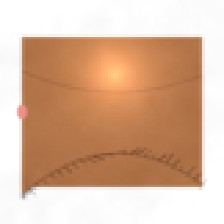pinguecula_lesion: (41, 98, 91, 138)
